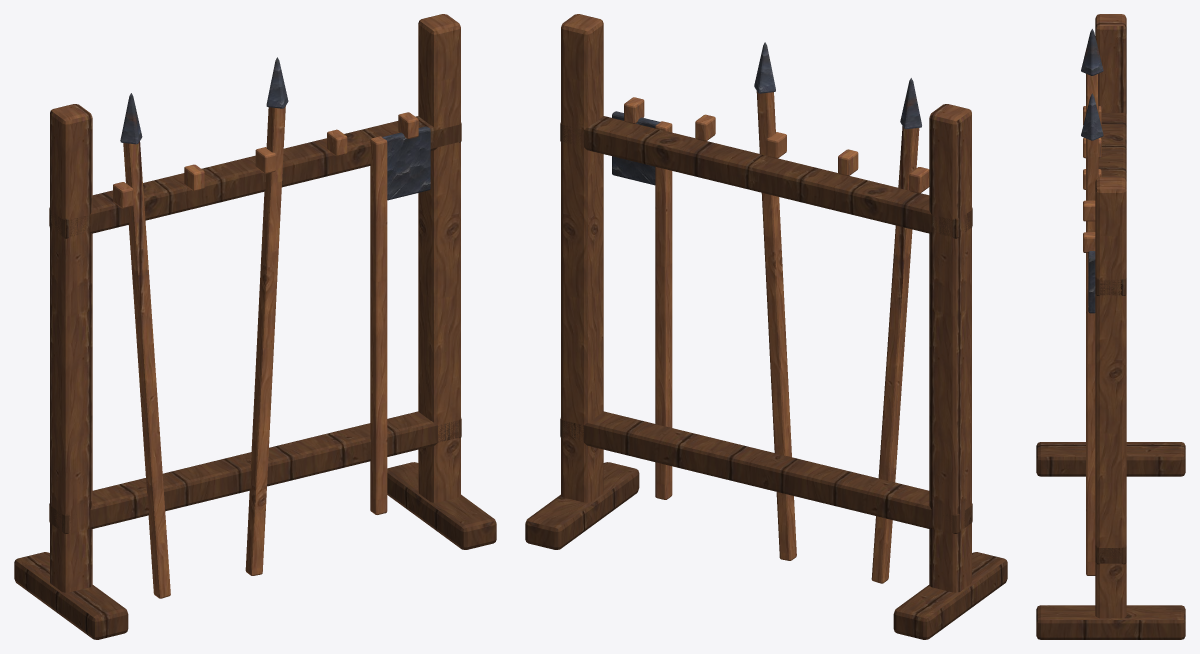
The model's file is weapon_rack__plank_root.glb.
The picture shows the model from 3 angles, left to right: view 1: azimuth 30°, elevation 25°; view 2: azimuth 150°, elevation 25°; view 3: azimuth 270°, elevation 25°; orthographic projection. The views are drawn at different scales.
Parts seen in each view (by area): view 1: model; view 2: model; view 3: model.
Boxes of the visible parts, <box> form: model: <box>14,14,496,639</box>; model: <box>525,14,1007,639</box>; model: <box>1036,14,1185,639</box>.
Size of the model in its own units: 1.36 by 1.64 by 0.48.
6 materials, 6 textured.
